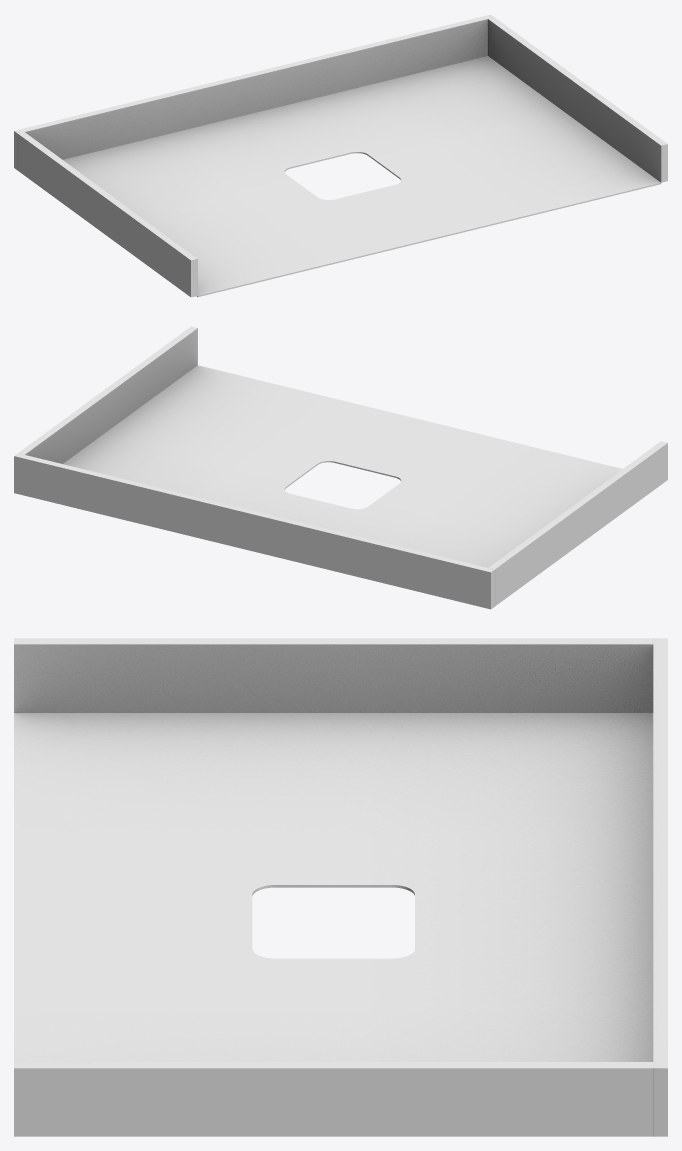
3 renders of one model, top to bottom at view 1: azimuth 30°, elevation 25°; view 2: azimuth 150°, elevation 25°; view 3: azimuth 270°, elevation 25°, orthographic. The views are drawn at different scales.
Visible parts, largest first — view 1: HORNEADO_suelo, HORNEADO_pared_fondo, HORNEADO_pared_der, HORNEADO_pared_izq; view 2: HORNEADO_suelo, HORNEADO_pared_fondo, HORNEADO_pared_izq, HORNEADO_pared_der; view 3: HORNEADO_suelo, HORNEADO_pared_der, HORNEADO_pared_izq, HORNEADO_pared_fondo.
Part boxes in pixels (x1,y1,x2,y2): HORNEADO_suelo: [63, 56, 661, 296]; HORNEADO_pared_fondo: [14, 14, 494, 170]; HORNEADO_pared_der: [488, 17, 667, 182]; HORNEADO_pared_izq: [18, 132, 197, 297]; HORNEADO_suelo: [63, 365, 622, 567]; HORNEADO_pared_fondo: [14, 453, 494, 609]; HORNEADO_pared_izq: [488, 441, 667, 606]; HORNEADO_pared_der: [18, 326, 197, 463]; HORNEADO_suelo: [14, 713, 653, 1061]; HORNEADO_pared_der: [14, 1062, 653, 1136]; HORNEADO_pared_izq: [14, 638, 653, 712]; HORNEADO_pared_fondo: [653, 638, 667, 1136].
Size of the model in its own units: 35 by 2.7 by 22.5.
Materials: 4 (4 with a texture image).
